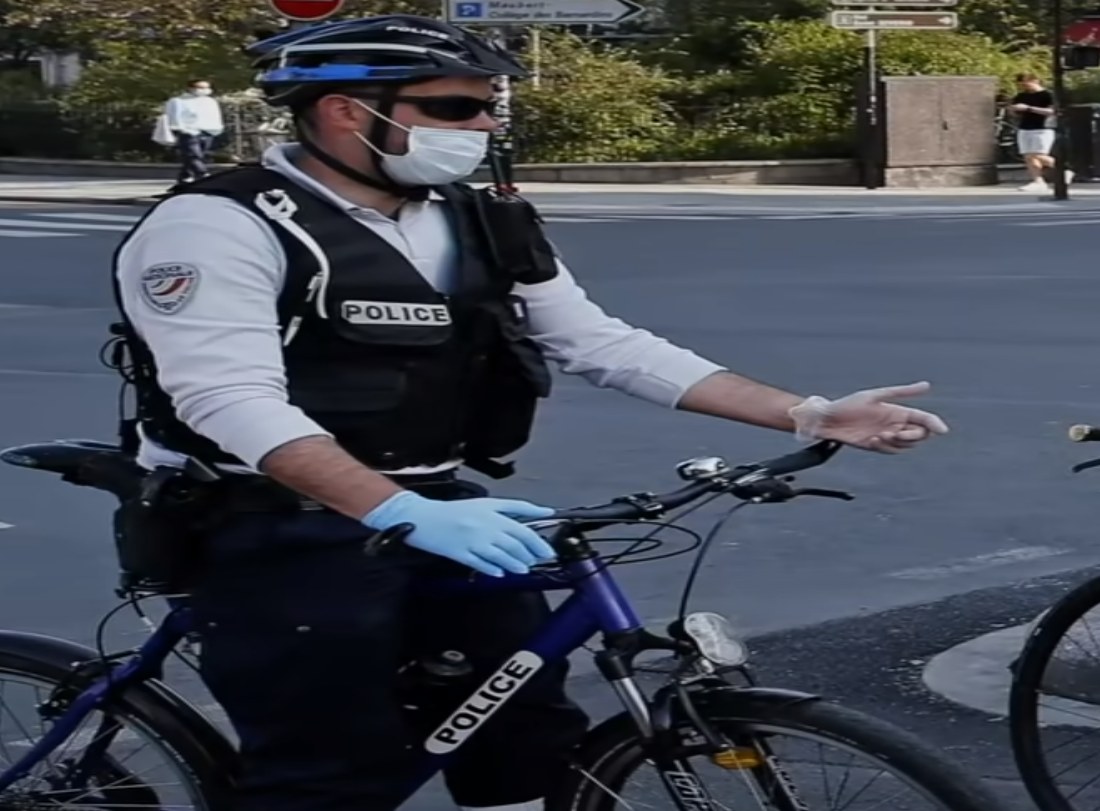mask_weared_incorrect: (269, 22, 509, 196)
